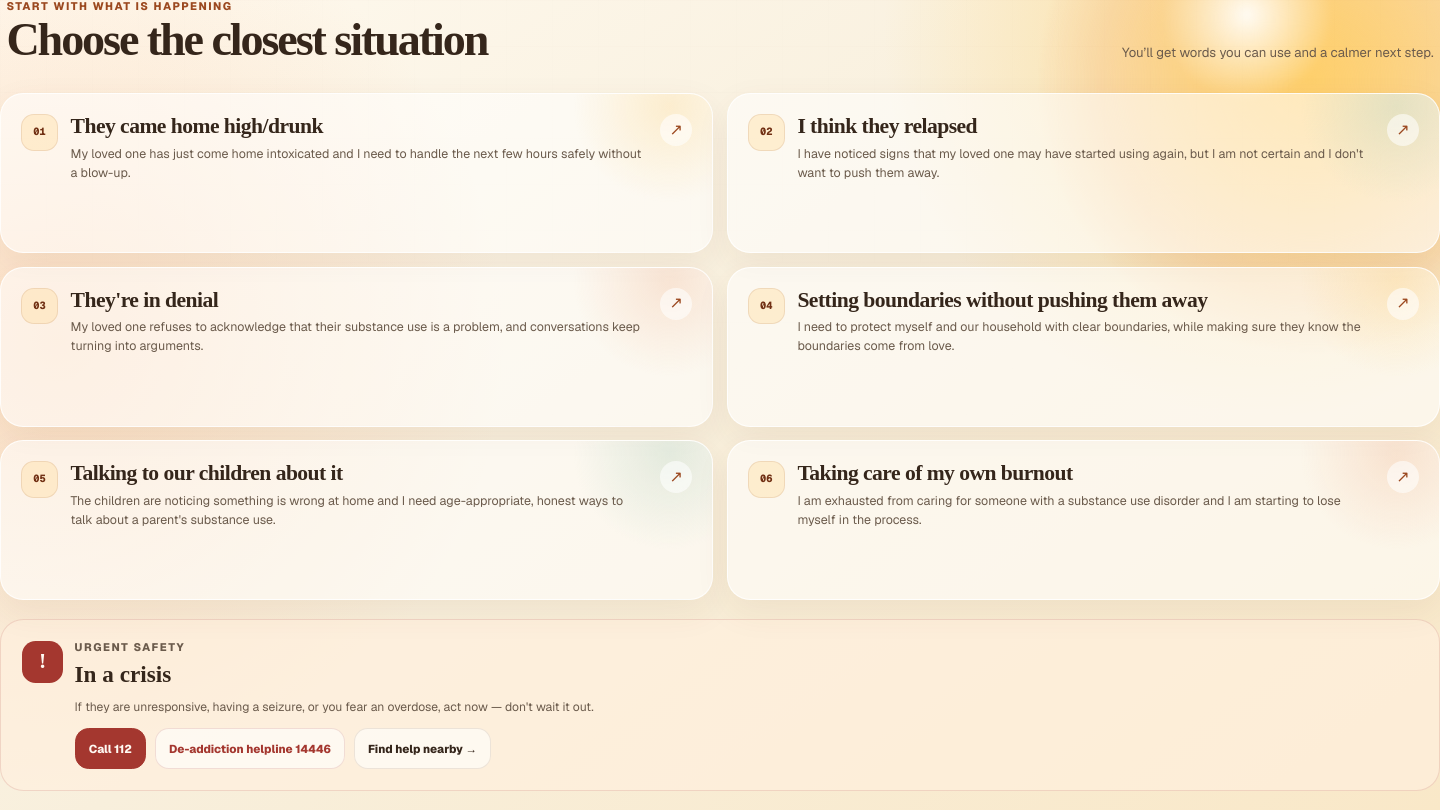
Test case: CaregiverClient › falls back to curated tips when the AI is unavailable
This screenshot has width=1440, height=810.
Click the button "relapsed": coordinates (766, 132) x1=727 y1=93 x2=1439 y2=253
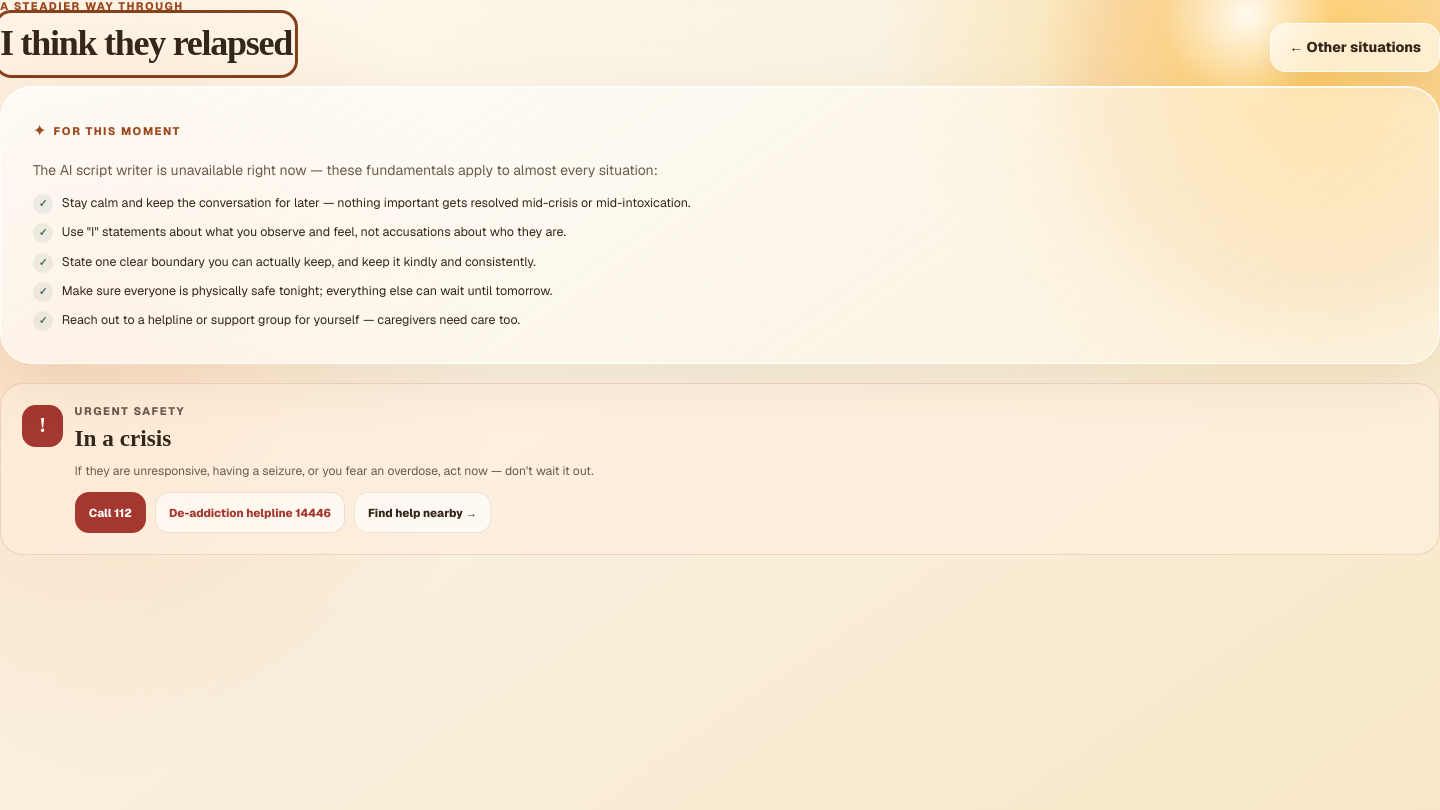
Now the text "fundamentals apply" is shown, box x1=33 y1=161 x2=658 y2=179
